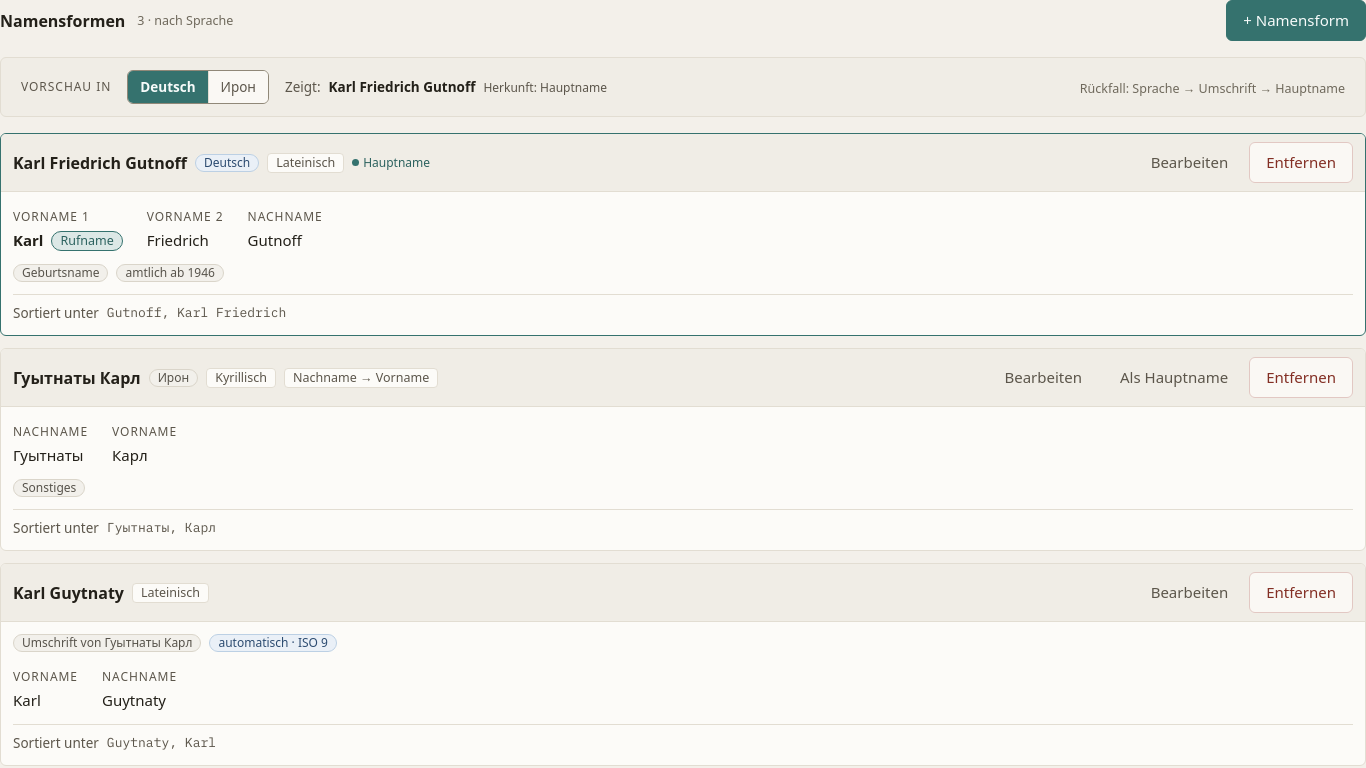
Test: ReiterNamen › Umschrift: eigene Karte „Umschrift von …" mit Bearbeiten und Entfernen, ohne Hauptname; ohne Ursprung mit Hinweis
Expected: the element with class "wz-namensform-karte" shows "Umschrift von Гуытнаты Карл", x1=22 y1=634 x2=192 y2=651
Expected: the element with class "wz-namensform-karte" shows "automatisch · ISO 9", x1=218 y1=634 x2=328 y2=651
Click the button "Bearbeiten" in the row of "Karl Guytnaty": (1189, 592) x1=1134 y1=572 x2=1245 y2=613
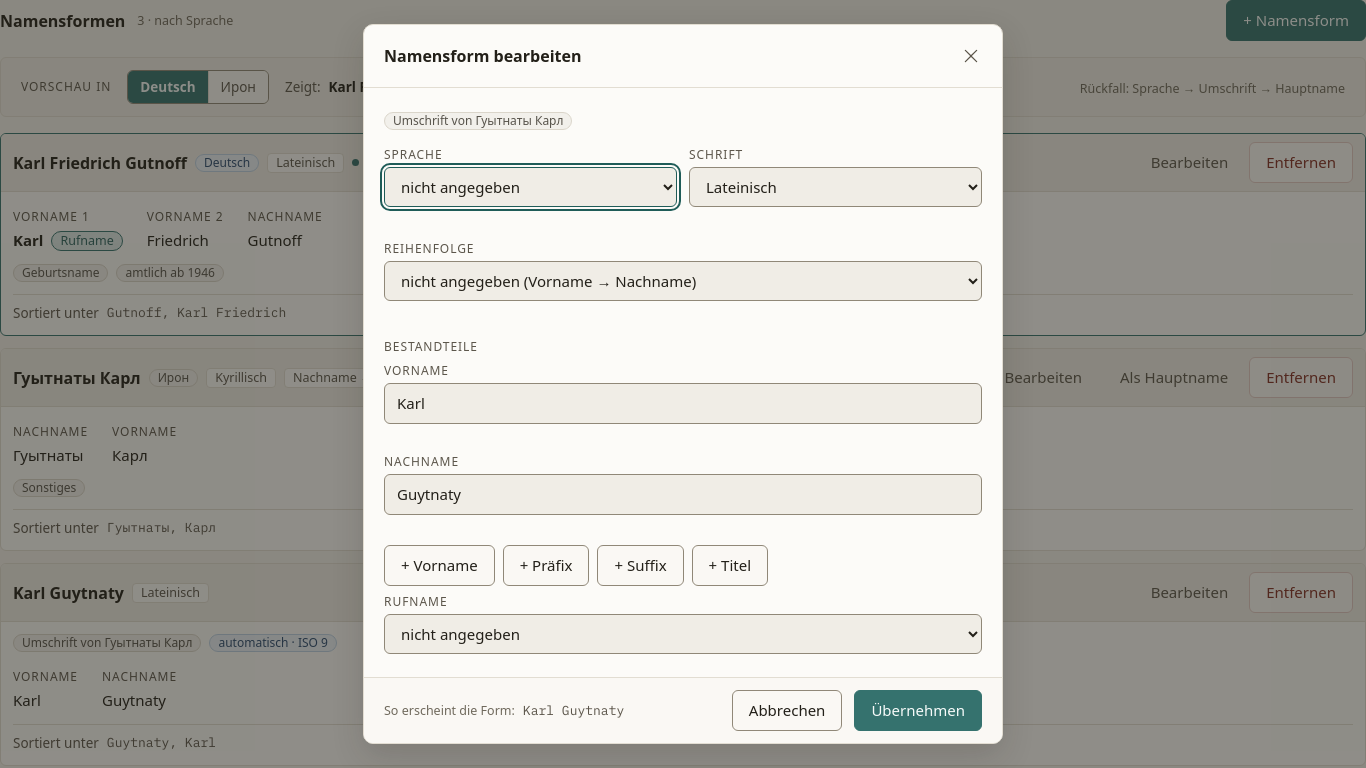
Now the dialog shows "Umschrift von Гуытнаты Карл", box x1=393 y1=112 x2=563 y2=129
Now the field with id "namensform-teil-t9" holds "Guytnaty", box x1=384 y1=474 x2=982 y2=515
Click the button "Abbrechen": (787, 710) x1=732 y1=690 x2=842 y2=731
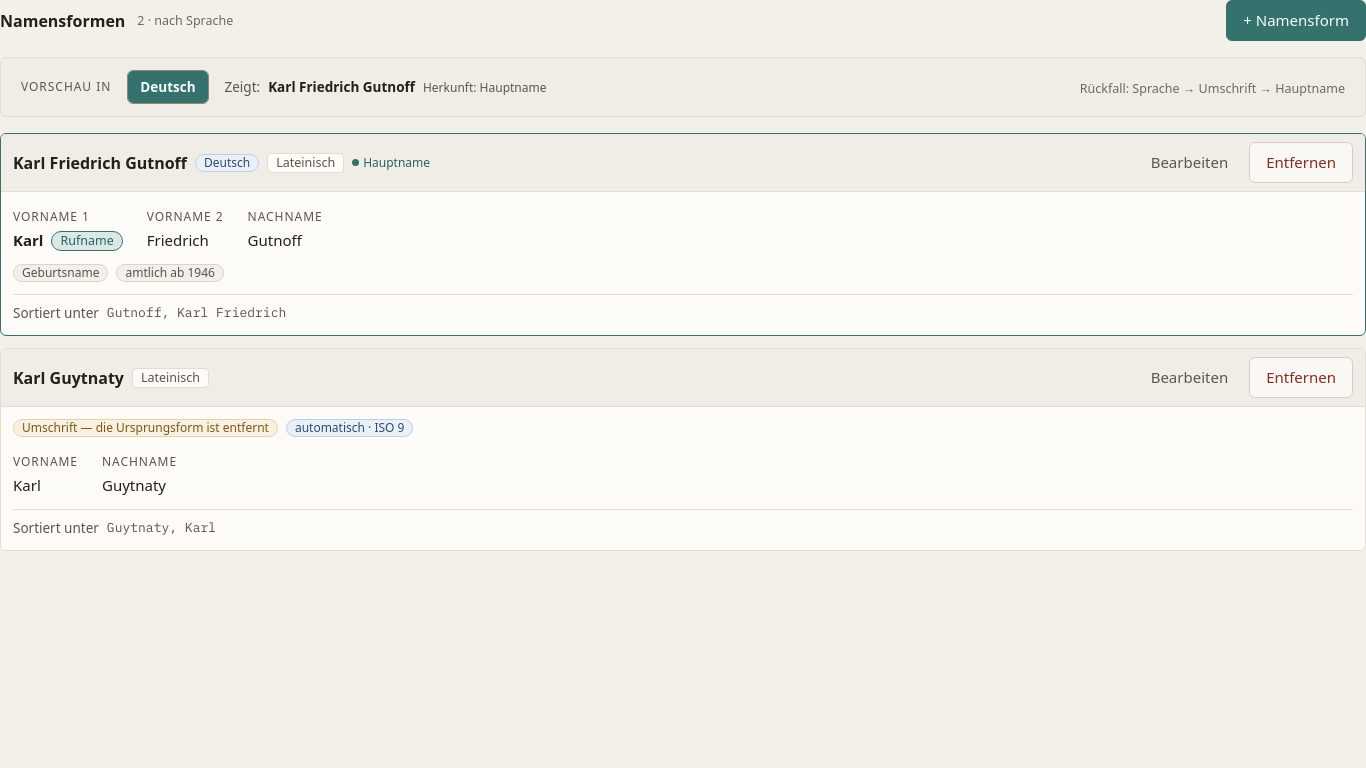
Now the element with class "wz-namensform-karte" shows "die Ursprungsform ist entfernt", box x1=22 y1=419 x2=269 y2=436
